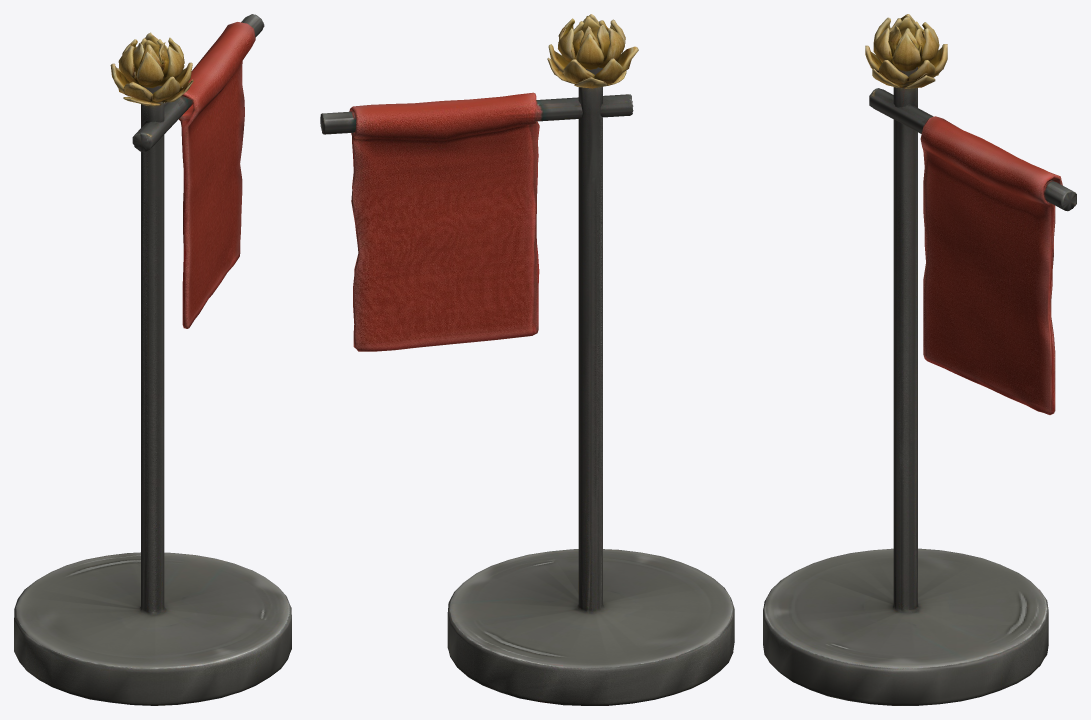
The model's file is tripo_convert_f71a1904-e0f1-4fa8-9fd9-04741578f4ad.fbx.
3 renders of one model, left to right at view 1: azimuth 30°, elevation 25°; view 2: azimuth 150°, elevation 25°; view 3: azimuth 270°, elevation 25°, orthographic. The views are drawn at different scales.
Visible parts, largest first — view 1: tripo_node_f71a1904; view 2: tripo_node_f71a1904; view 3: tripo_node_f71a1904.
Boxes of the visible parts, <box> form: tripo_node_f71a1904: <box>14,14,291,705</box>; tripo_node_f71a1904: <box>320,14,734,705</box>; tripo_node_f71a1904: <box>763,14,1076,705</box>.
Size of the model in its own units: 0.5293 by 0.998 by 0.4551.
1 material, 1 textured.
